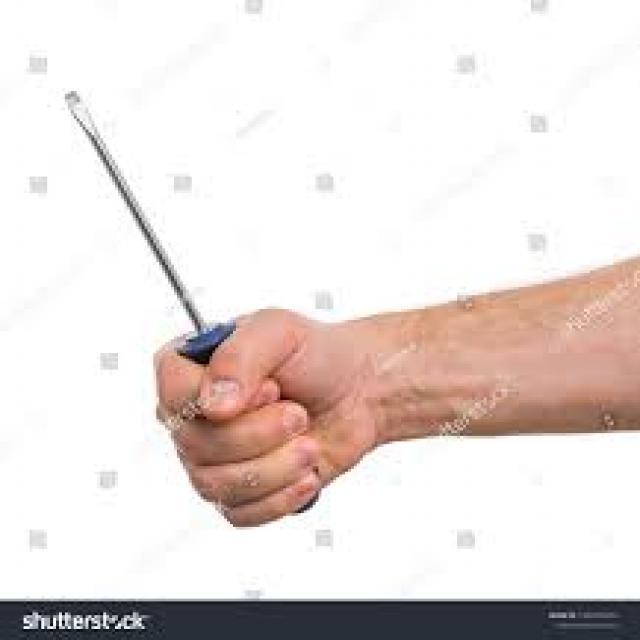screwdriver: (60, 76, 320, 520)
